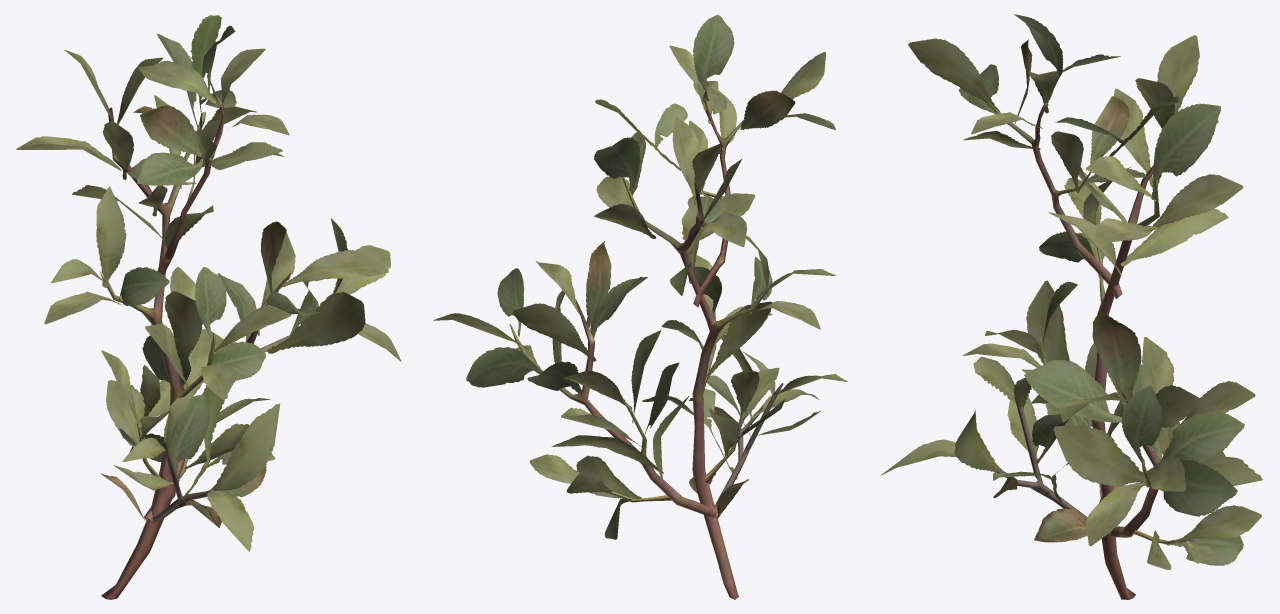
3 renders of one model, left to right at view 1: azimuth 30°, elevation 25°; view 2: azimuth 150°, elevation 25°; view 3: azimuth 270°, elevation 25°, orthographic. The views are drawn at different scales.
Visible parts, largest first — view 1: shrub_04__c_lod1; view 2: shrub_04__c_lod1; view 3: shrub_04__c_lod1.
Boxes of the visible parts, x1,y1,x2,y2 form: shrub_04__c_lod1: (16, 15, 401, 599); shrub_04__c_lod1: (433, 14, 847, 599); shrub_04__c_lod1: (880, 14, 1262, 599).
Size of the model in its own units: 0.1076 by 0.1527 by 0.0866.
1 material, 1 textured.
